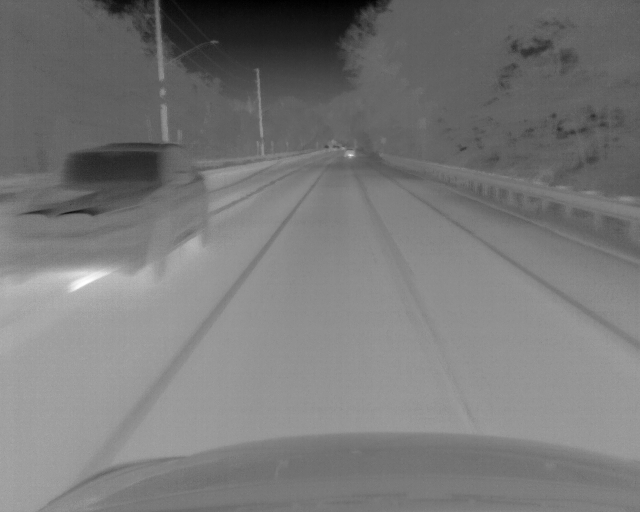car: (1, 142, 214, 283), (342, 148, 356, 160)
